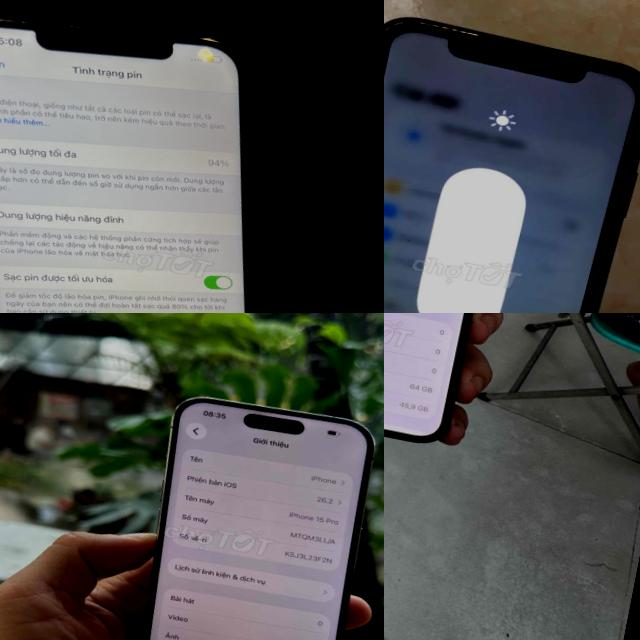gen_11: (384, 21, 640, 313)
gen_12_13: (0, 0, 332, 313), (384, 313, 512, 445)
gen_15: (88, 384, 384, 640)
